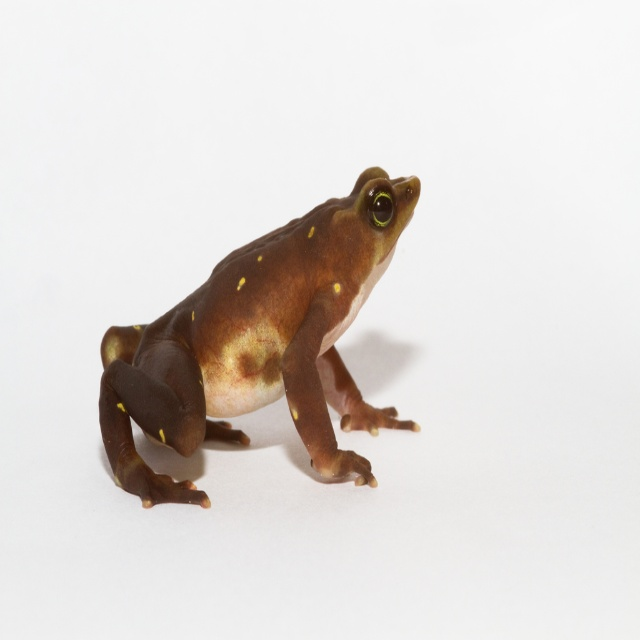Frog: (94, 165, 421, 506)
